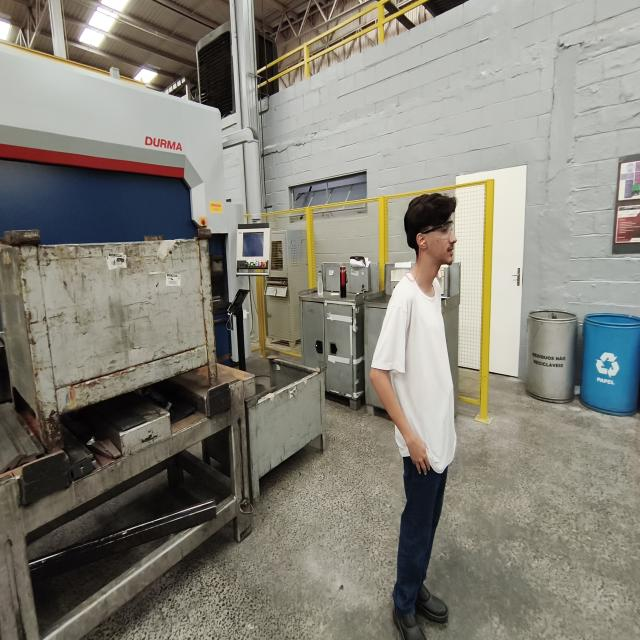oculos-epi: (421, 220, 454, 239)
